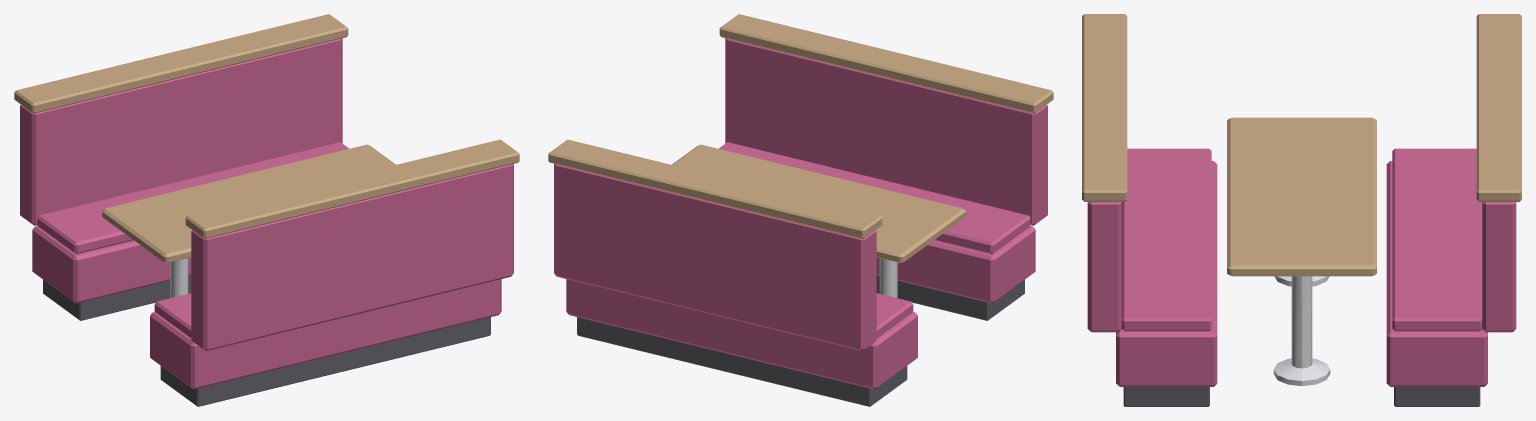
The model's file is motorway-services-and-truck-park-seating-booth-30c160cb__35936.glb.
The picture shows the model from 3 angles, left to right: view 1: azimuth 30°, elevation 25°; view 2: azimuth 150°, elevation 25°; view 3: azimuth 270°, elevation 25°; orthographic projection. The views are drawn at different scales.
Parts seen in each view (by area): view 1: seating-booth; view 2: seating-booth; view 3: seating-booth.
Part boxes in pixels (<box>): seating-booth: <box>14,14,519,406</box>; seating-booth: <box>548,14,1053,406</box>; seating-booth: <box>1082,14,1521,406</box>.
Size of the model in its own units: 2.24 by 1.31 by 2.34.
